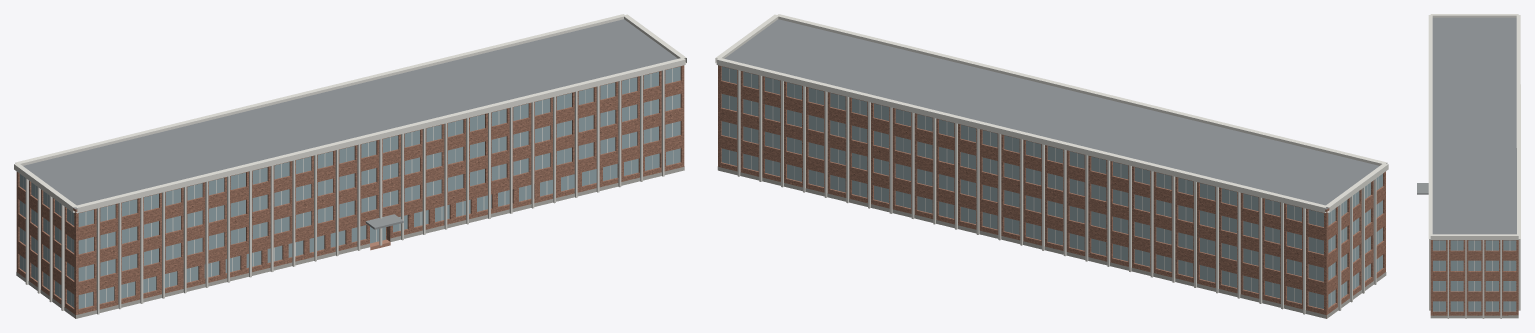
The picture shows the model from 3 angles, left to right: view 1: azimuth 30°, elevation 25°; view 2: azimuth 150°, elevation 25°; view 3: azimuth 270°, elevation 25°; orthographic projection. The views are drawn at different scales.
Parts seen in each view (by area): view 1: b115951778__wall, b115951778__roof, b115951778__glass, b115951778__trim, b115951778__base, b115951778__frame; view 2: b115951778__wall, b115951778__roof, b115951778__glass, b115951778__trim, b115951778__base, b115951778__frame; view 3: b115951778__roof, b115951778__wall, b115951778__trim, b115951778__glass, b115951778__base, b115951778__frame, b115951778__canopy.
Boxes of the visible parts, x1=… form: b115951778__wall: x1=16, y1=65, x2=684, y2=318; b115951778__roof: x1=23, y1=19, x2=677, y2=209; b115951778__glass: x1=19, y1=66, x2=680, y2=308; b115951778__trim: x1=14, y1=14, x2=686, y2=314; b115951778__base: x1=16, y1=166, x2=684, y2=318; b115951778__frame: x1=23, y1=68, x2=673, y2=307; b115951778__wall: x1=718, y1=65, x2=1385, y2=318; b115951778__roof: x1=724, y1=19, x2=1379, y2=209; b115951778__glass: x1=721, y1=66, x2=1382, y2=308; b115951778__trim: x1=715, y1=14, x2=1388, y2=314; b115951778__base: x1=717, y1=166, x2=1386, y2=318; b115951778__frame: x1=729, y1=68, x2=1378, y2=306; b115951778__roof: x1=1432, y1=17, x2=1516, y2=234; b115951778__wall: x1=1430, y1=240, x2=1518, y2=315; b115951778__trim: x1=1428, y1=14, x2=1520, y2=318; b115951778__glass: x1=1433, y1=240, x2=1516, y2=311; b115951778__base: x1=1430, y1=315, x2=1518, y2=318; b115951778__frame: x1=1439, y1=240, x2=1510, y2=311; b115951778__canopy: x1=1417, y1=183, x2=1428, y2=194.
Size of the model in its own units: 84.64 by 15.15 by 16.72.
Materials: 9 (1 with a texture image).
